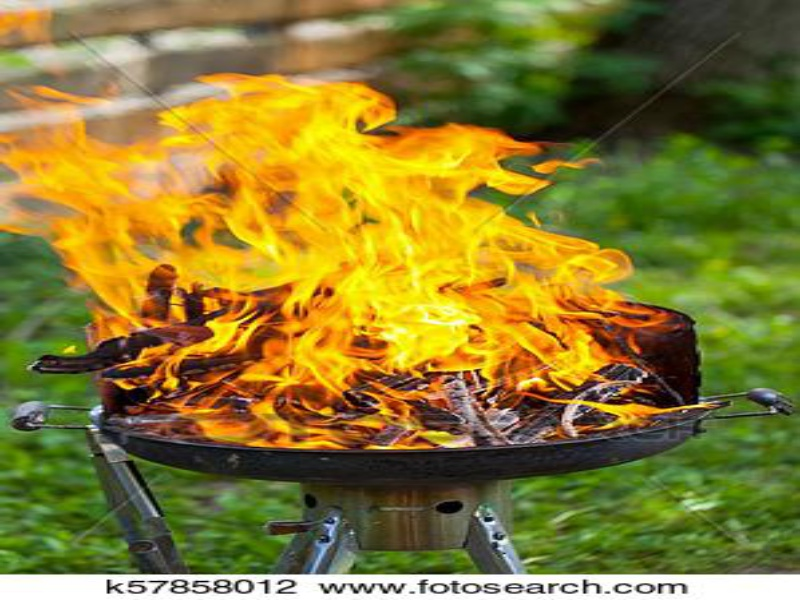fire: (3, 2, 727, 416)
